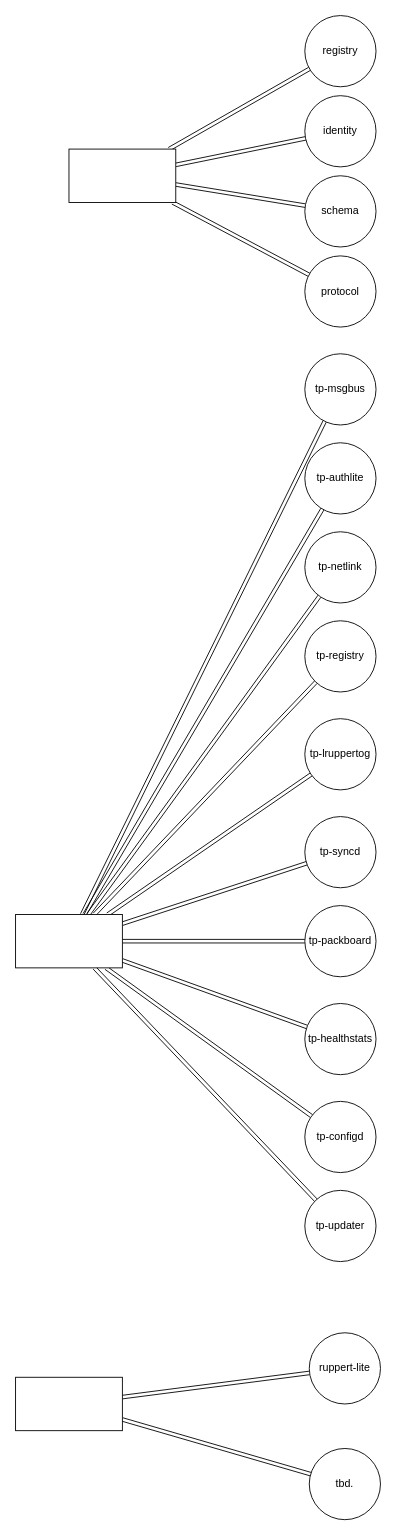
The diagram is 396 pixels wide and 1535 high, and some of its shapes have lost their labels. Each missing label, with the box of its shape:
Core: (68, 148, 176, 202)
Runtime: (15, 1376, 122, 1431)
Services: (15, 914, 122, 968)
